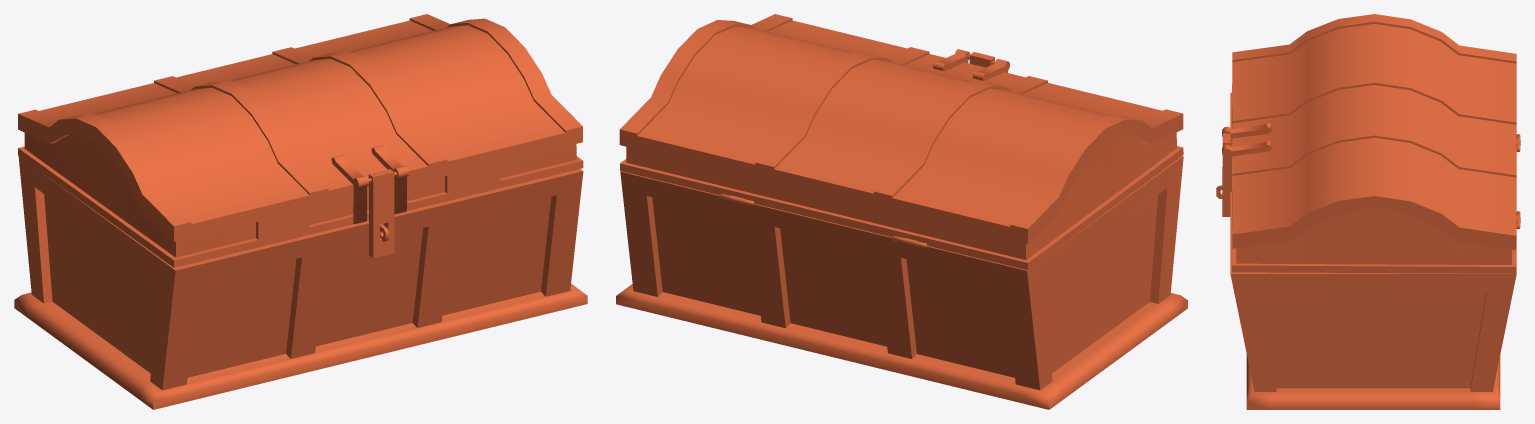
File: BoxTreasure.fbx
The picture shows the model from 3 angles, left to right: view 1: azimuth 30°, elevation 25°; view 2: azimuth 150°, elevation 25°; view 3: azimuth 270°, elevation 25°; orthographic projection. The views are drawn at different scales.
Parts seen in each view (by area): view 1: Wooden_Box_Top, Wooden_Box, Wooden_Box_Lock; view 2: Wooden_Box_Top, Wooden_Box; view 3: Wooden_Box_Top, Wooden_Box, Wooden_Box_Lock.
Boxes of the visible parts, bbox=[...] form: Wooden_Box_Top: bbox=[18, 14, 583, 267]; Wooden_Box: bbox=[14, 156, 587, 409]; Wooden_Box_Lock: bbox=[368, 169, 394, 258]; Wooden_Box_Top: bbox=[619, 14, 1183, 270]; Wooden_Box: bbox=[616, 156, 1187, 409]; Wooden_Box_Top: bbox=[1222, 14, 1516, 273]; Wooden_Box: bbox=[1216, 92, 1520, 409]; Wooden_Box_Lock: bbox=[1222, 133, 1230, 216].
Bounding box in the file's own units: 38.91 × 19.57 × 25.9.
